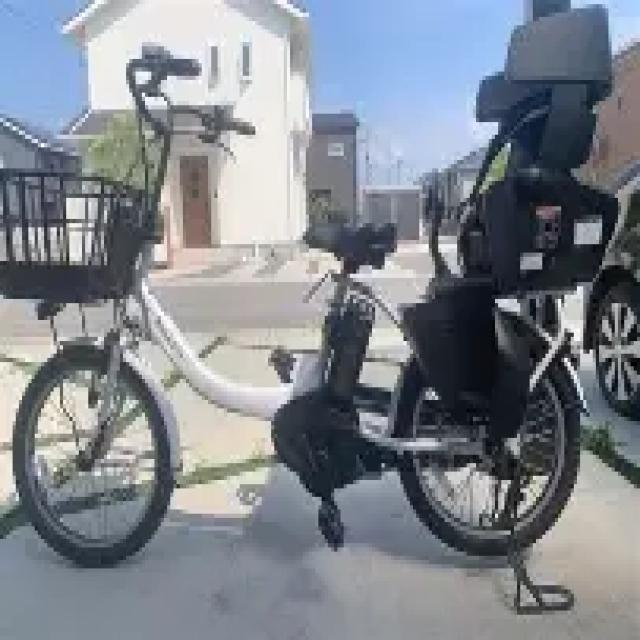basket: (0, 172, 158, 312)
battery: (322, 296, 378, 417)
childseat: (400, 2, 618, 460)
